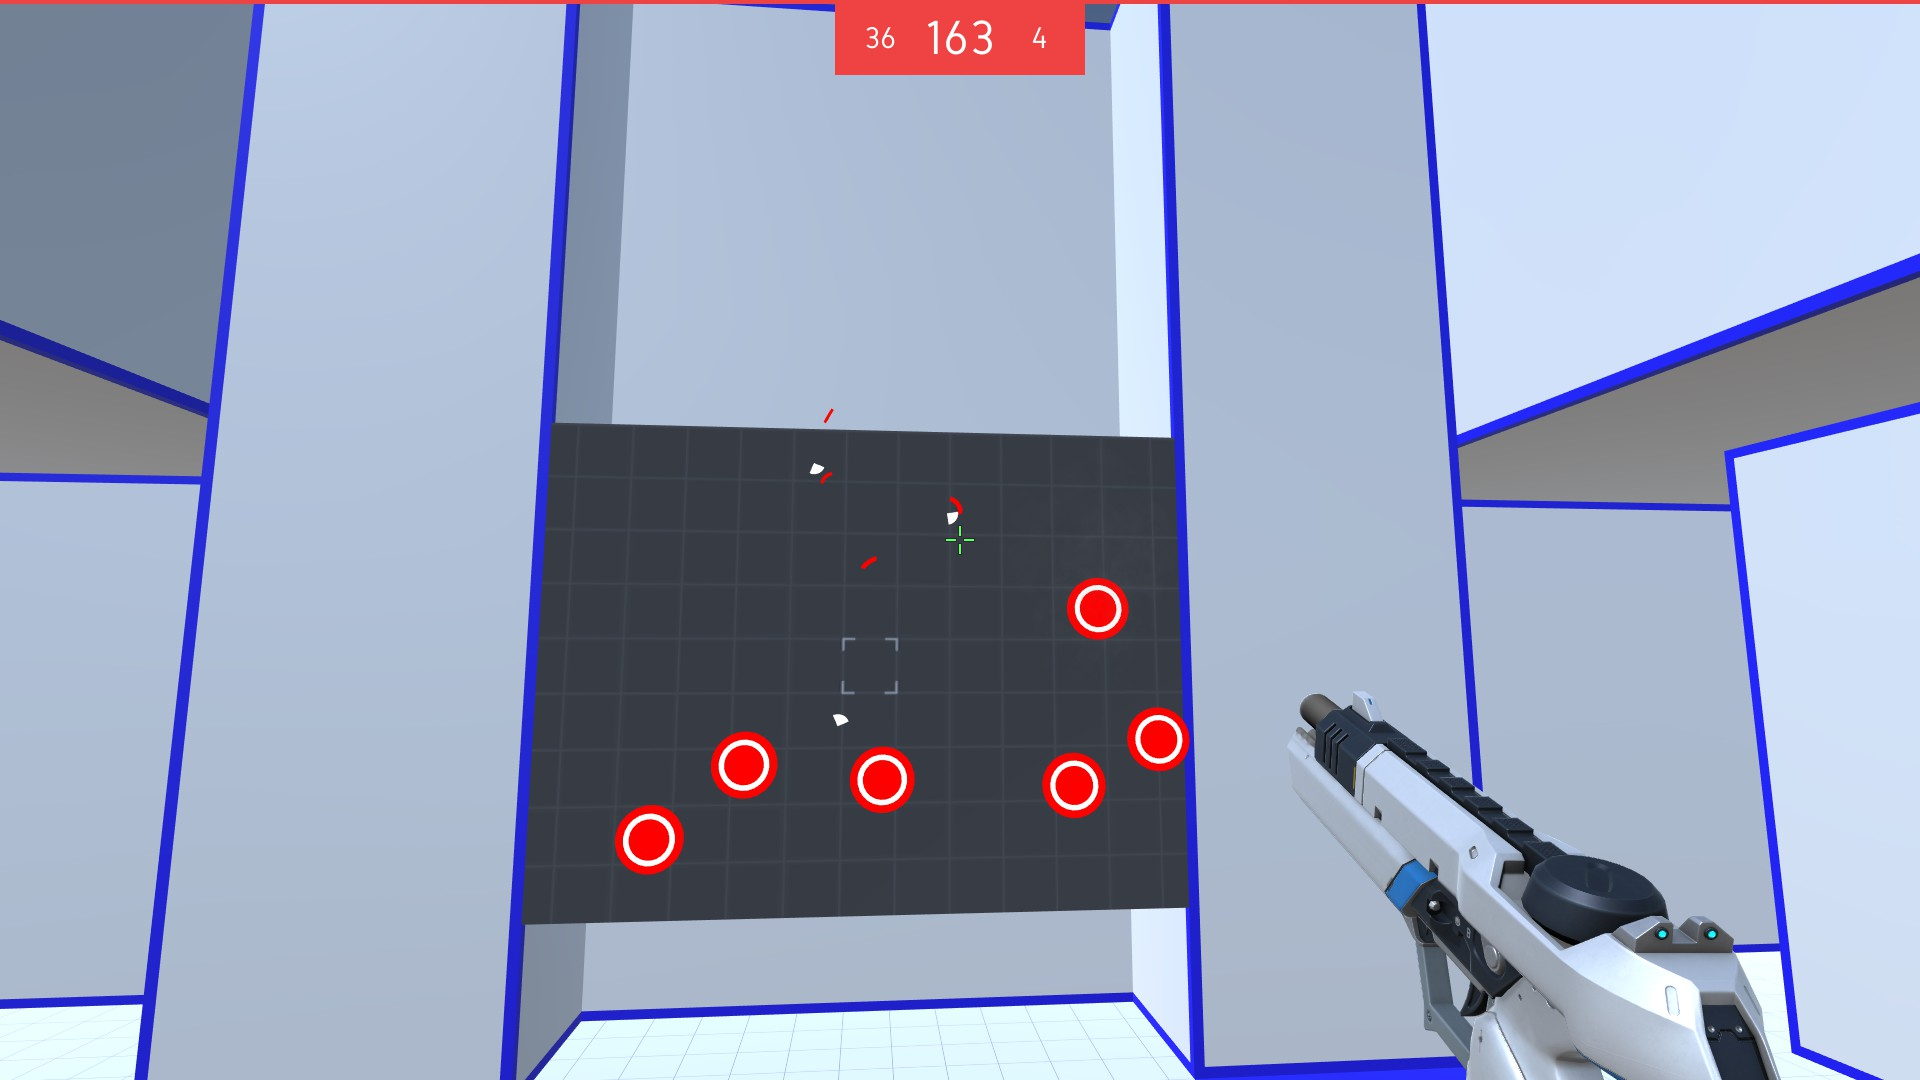target: (705, 724, 789, 804), (615, 800, 688, 877), (1039, 750, 1112, 822), (1124, 703, 1191, 779), (1062, 578, 1133, 647), (851, 745, 916, 816)
